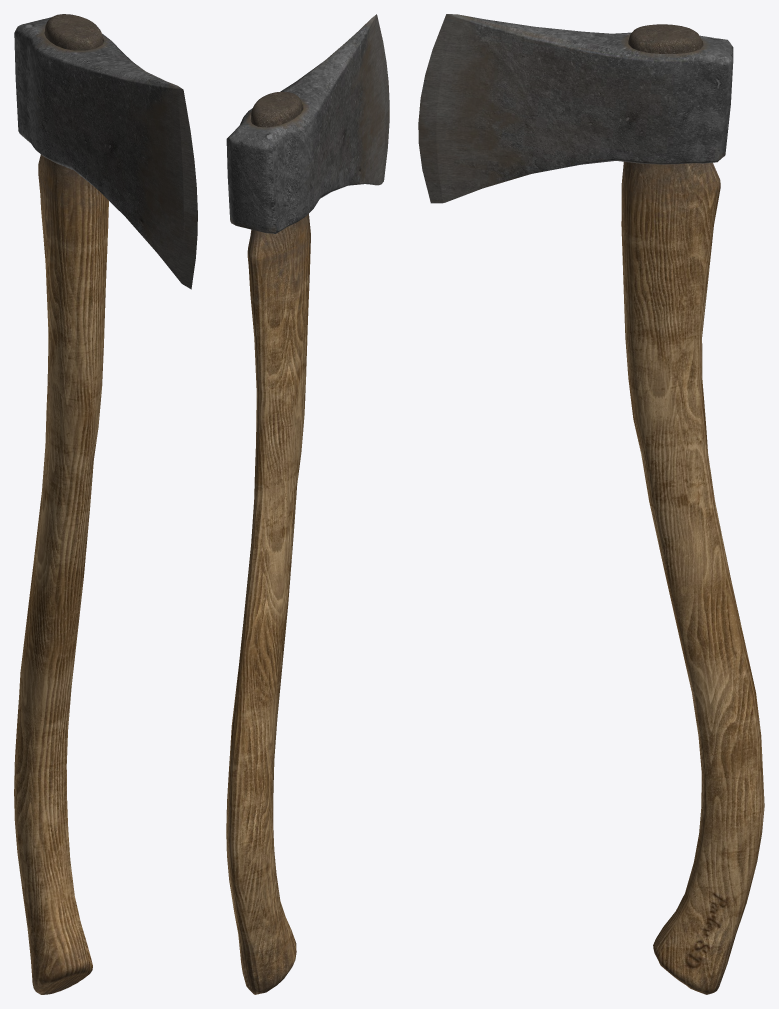
Rendered from wooden_axe_02.gltf.
The picture shows the model from 3 angles, left to right: view 1: azimuth 30°, elevation 25°; view 2: azimuth 150°, elevation 25°; view 3: azimuth 270°, elevation 25°; orthographic projection. The views are drawn at different scales.
Parts seen in each view (by area): view 1: wooden_axe_02; view 2: wooden_axe_02; view 3: wooden_axe_02.
Boxes of the visible parts, box(x1,y1,x2,y2) form: wooden_axe_02: box(14, 14, 197, 994); wooden_axe_02: box(226, 14, 389, 994); wooden_axe_02: box(418, 14, 764, 994).
Size of the model in its own units: 0.0509 by 0.7042 by 0.2257.
Materials: 1 (1 with a texture image).
